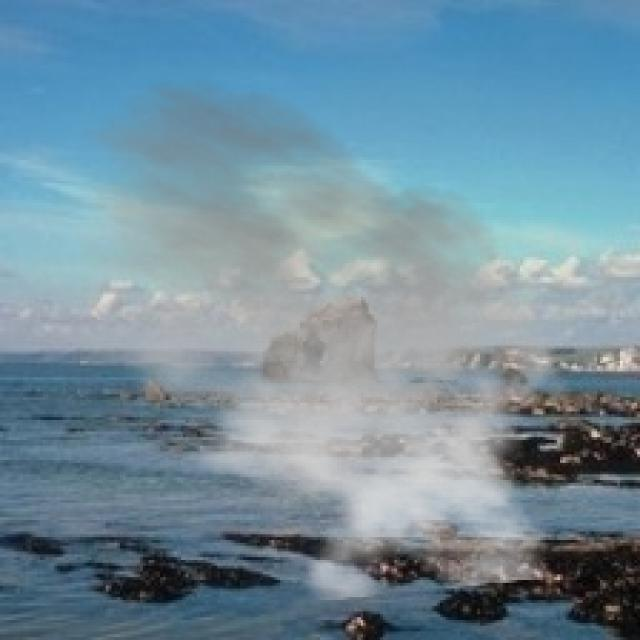Smoke: (31, 74, 588, 603)
